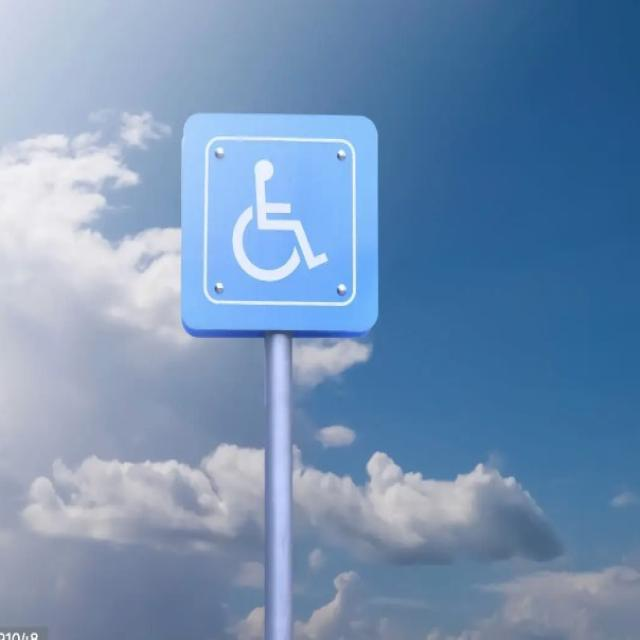symbol_of_access: (176, 108, 383, 337)
